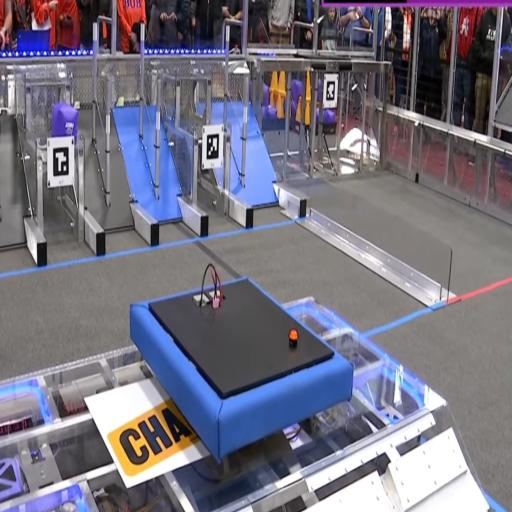robot: (131, 275, 354, 464)
